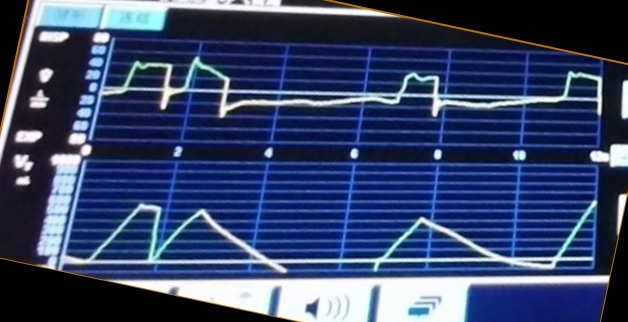Double_Triggering Flow: (108, 54, 602, 141)
Double_Triggering Volume: (79, 195, 598, 275)
